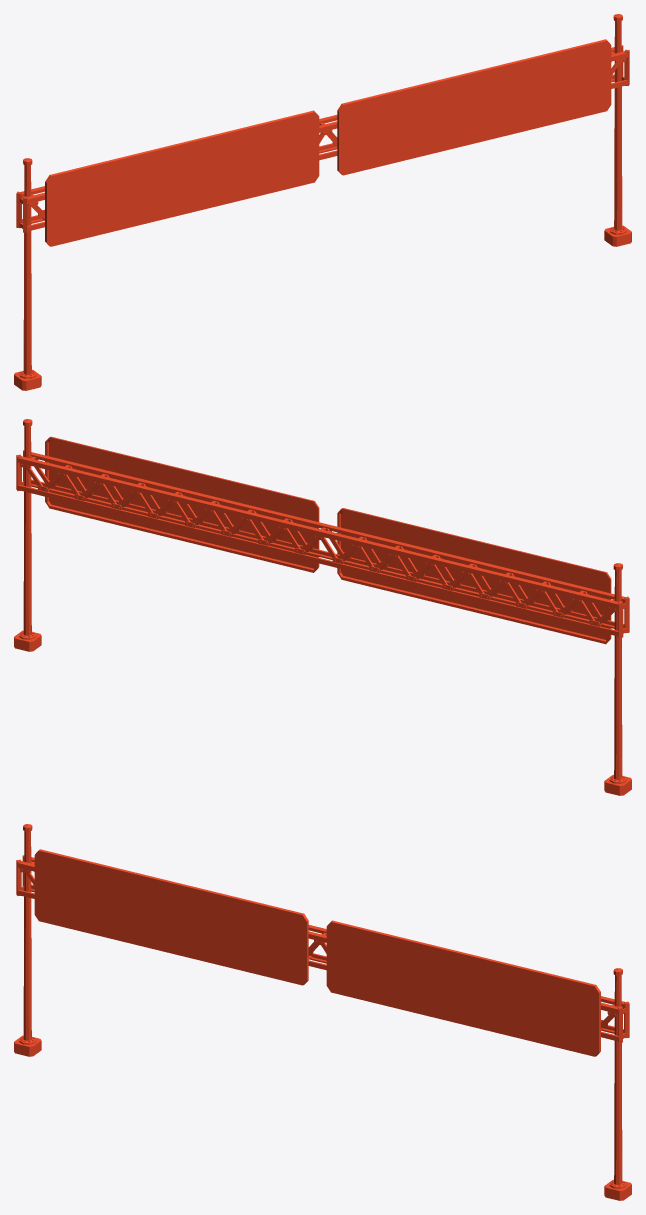
Rendered from SM_Sign_Gantry_Wide_B_City.fbx.
3 renders of one model, top to bottom at view 1: azimuth 30°, elevation 25°; view 2: azimuth 150°, elevation 25°; view 3: azimuth 330°, elevation 25°, orthographic.
Visible parts, largest first — view 1: SM_Sign_Gantry_Wide_B_City; view 2: SM_Sign_Gantry_Wide_B_City; view 3: SM_Sign_Gantry_Wide_B_City.
Part boxes in pixels (x1,y1,x2,y2): SM_Sign_Gantry_Wide_B_City: [14, 14, 631, 390]; SM_Sign_Gantry_Wide_B_City: [14, 419, 631, 795]; SM_Sign_Gantry_Wide_B_City: [14, 824, 631, 1200].
Size of the model in its own units: 26.85 by 9.5 by 0.8979.
